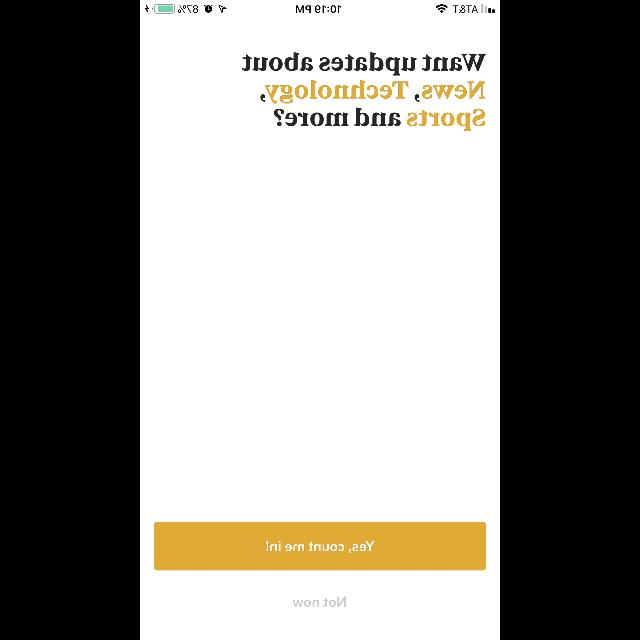text: (242, 52, 486, 132), (292, 596, 346, 608)
textbutton: (154, 522, 486, 570)
uppertaskbar: (140, 0, 500, 14)
